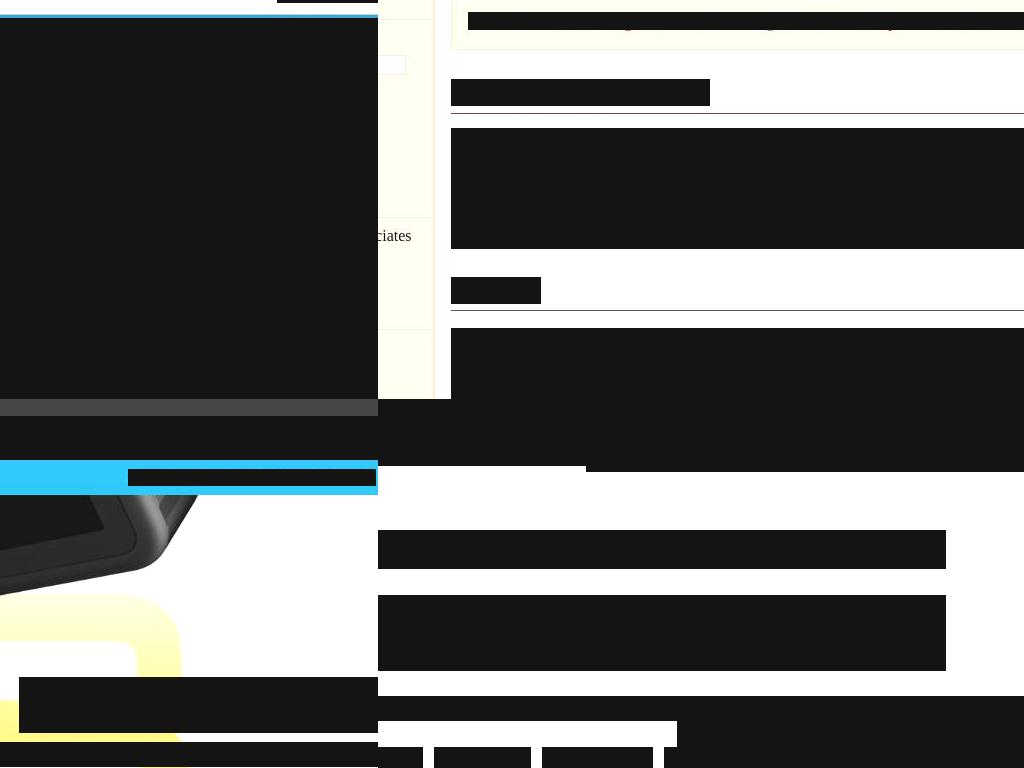button: (83, 416, 223, 460), (0, 416, 83, 460), (300, 416, 378, 460), (223, 416, 300, 460), (542, 747, 653, 768), (664, 747, 775, 768), (434, 747, 531, 768), (876, 747, 973, 768), (786, 747, 865, 768), (378, 747, 423, 768)
heading: (0, 173, 257, 399), (378, 530, 946, 569), (378, 696, 1024, 721), (19, 677, 201, 733), (201, 677, 378, 733), (0, 742, 378, 767), (451, 79, 710, 106), (451, 277, 541, 304)
iframe: (451, 128, 1024, 249)
image: (0, 114, 378, 399), (0, 18, 378, 114), (586, 399, 1024, 472), (677, 715, 1024, 768)
link: (203, 469, 376, 486), (559, 12, 663, 30), (675, 12, 775, 30), (870, 12, 955, 30), (468, 12, 548, 30), (786, 12, 860, 30), (967, 12, 1024, 30)
text: (378, 595, 946, 671), (451, 328, 1024, 399), (5, 53, 378, 75), (451, 328, 578, 346), (103, 429, 203, 447), (128, 469, 203, 486), (0, 429, 63, 447), (320, 429, 378, 447), (243, 429, 280, 447), (547, 12, 560, 30), (663, 12, 676, 30), (774, 12, 787, 30), (858, 12, 871, 30), (955, 12, 968, 30)
